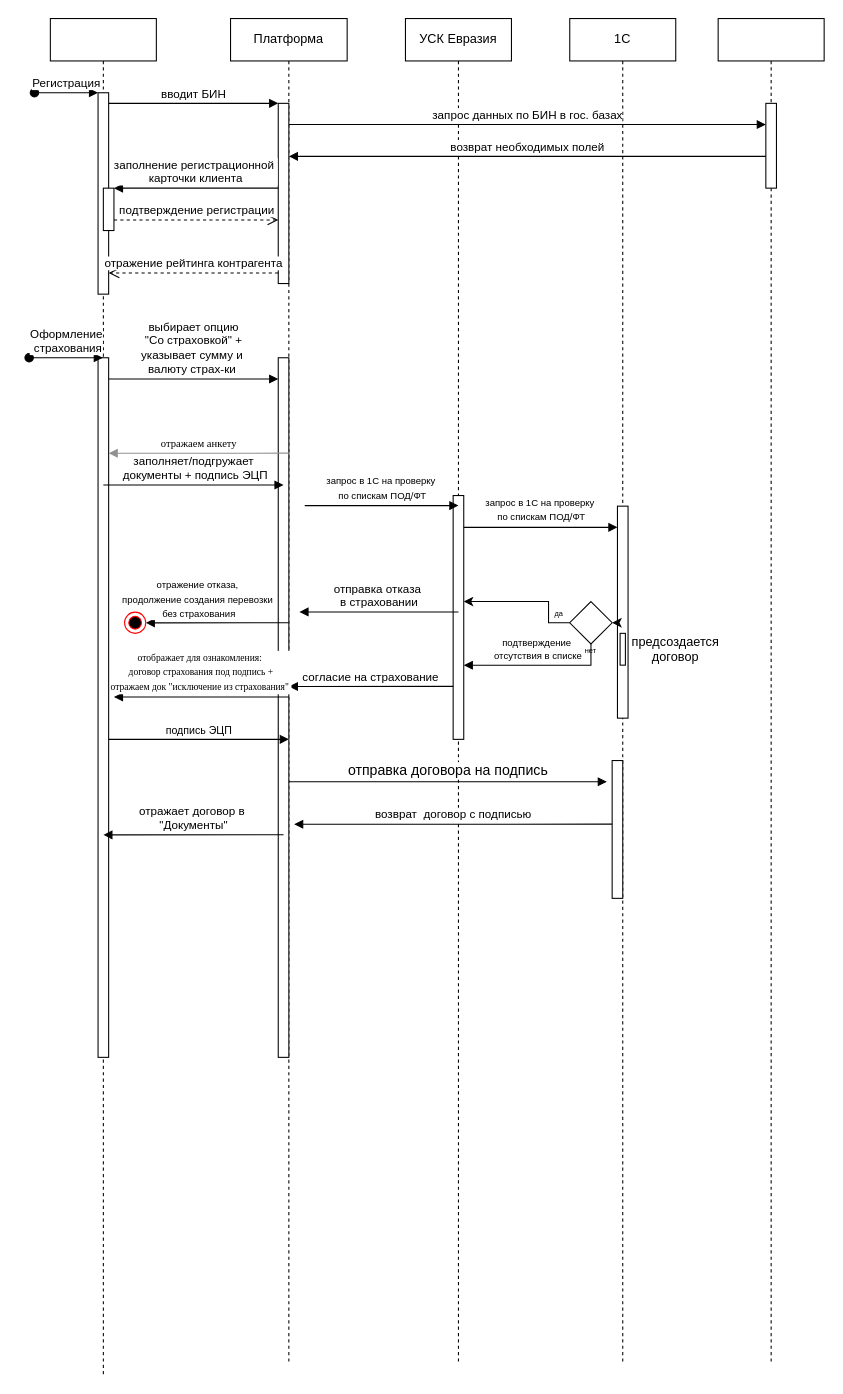
Image size: 843x1394. Some labels were removed from this diagram. The shapes that lost their labels are listed below. From the top down, each one's box as (x1, y1, x2, y2) in pixels, then its label:
(49, 17, 156, 1375): Клиент
(717, 17, 824, 1365): ПКБ
